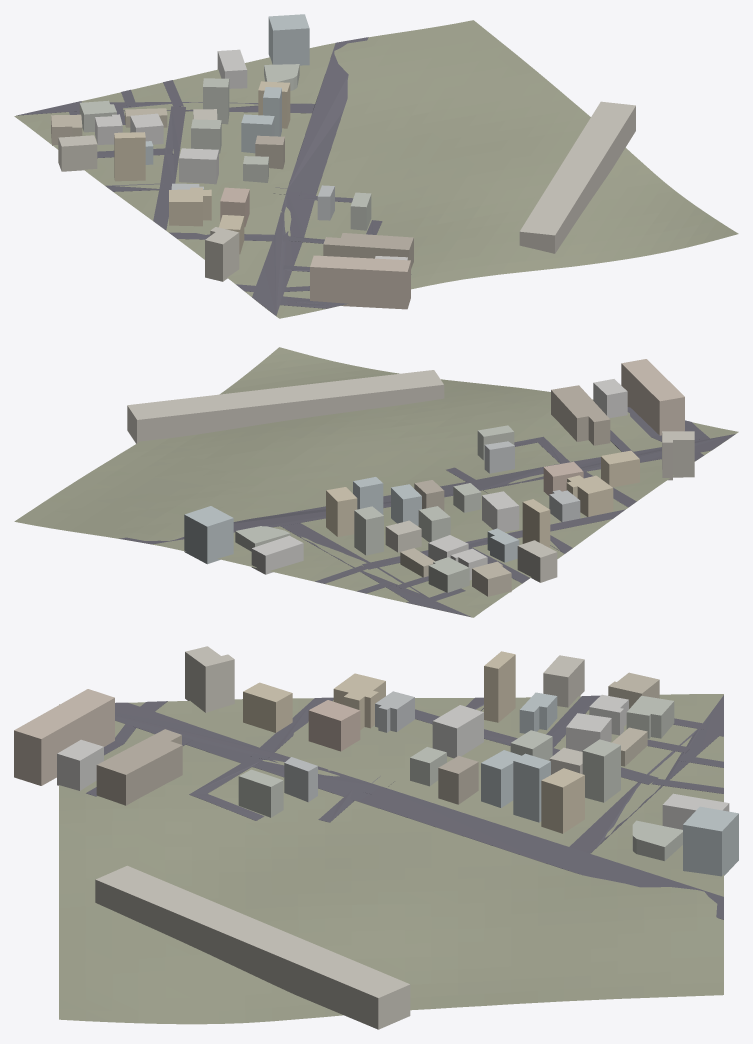
The model's file is chunk_4_3.glb.
The picture shows the model from 3 angles, top to bottom: view 1: azimuth 30°, elevation 25°; view 2: azimuth 150°, elevation 25°; view 3: azimuth 270°, elevation 25°; orthographic projection. The views are drawn at different scales.
Visible parts, largest first — view 1: geometry_31, geometry_20, geometry_34, geometry_0, geometry_26, geometry_1, geometry_16, geometry_7, geometry_3, geometry_5, geometry_11, geometry_37 (+19 smaller); view 2: geometry_31, geometry_20, geometry_34, geometry_0, geometry_1, geometry_26, geometry_45, geometry_16, geometry_3, geometry_25, geometry_11, geometry_6 (+24 smaller); view 3: geometry_31, geometry_20, geometry_34, geometry_0, geometry_1, geometry_26, geometry_16, geometry_45, geometry_6, geometry_4, geometry_5, geometry_22 (+26 smaller).
Boxes of the visible parts, x1,y1,x2,y2 form: geometry_31: (14,20,738,318); geometry_20: (519,101,635,253); geometry_34: (252,37,368,315); geometry_0: (310,255,410,309); geometry_26: (268,14,309,65); geometry_1: (323,233,413,268); geometry_16: (205,227,239,281); geometry_7: (114,132,145,181); geometry_3: (169,187,211,226); geometry_5: (179,148,218,184); geometry_11: (58,135,97,171); geometry_37: (160,106,185,186); geometry_31: (14,347,738,617); geometry_20: (127,370,444,443); geometry_34: (119,434,735,544); geometry_0: (621,359,684,435); geometry_1: (551,385,610,445); geometry_26: (184,506,233,564); geometry_45: (281,523,471,617); geometry_16: (662,431,694,480); geometry_3: (566,475,613,516); geometry_25: (251,535,303,574); geometry_11: (517,540,557,582); geometry_6: (326,487,357,536); geometry_31: (59,694,723,1024); geometry_20: (95,865,410,1029); geometry_34: (115,702,723,919); geometry_0: (14,689,114,785); geometry_1: (96,729,182,805); geometry_26: (683,806,738,876); geometry_16: (185,646,234,712); geometry_45: (569,695,723,853); geometry_6: (541,768,584,833); geometry_4: (308,700,360,751); geometry_5: (432,705,483,758); geometry_22: (582,739,620,802).
Bounding box in the file's own units: 273 × 41.2 × 272.
